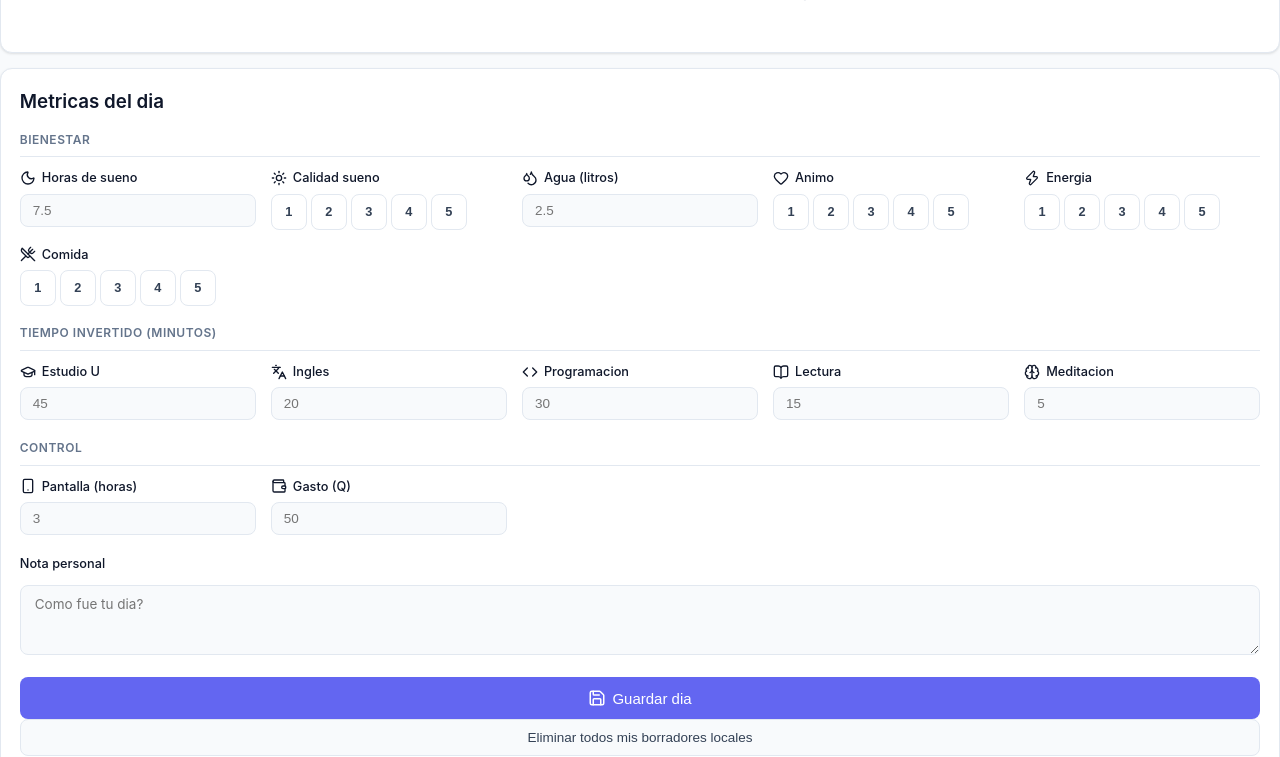
Scenario: Today draft save lifecycle › preserves edits made while the previous snapshot is saving
The width and height of the screenshot is (1280, 757).
(page scrolled)
Type "version uno" into the text box with placeholder "Como fue tu dia?" at (640, 620), box left=20, top=585, right=1260, bottom=655
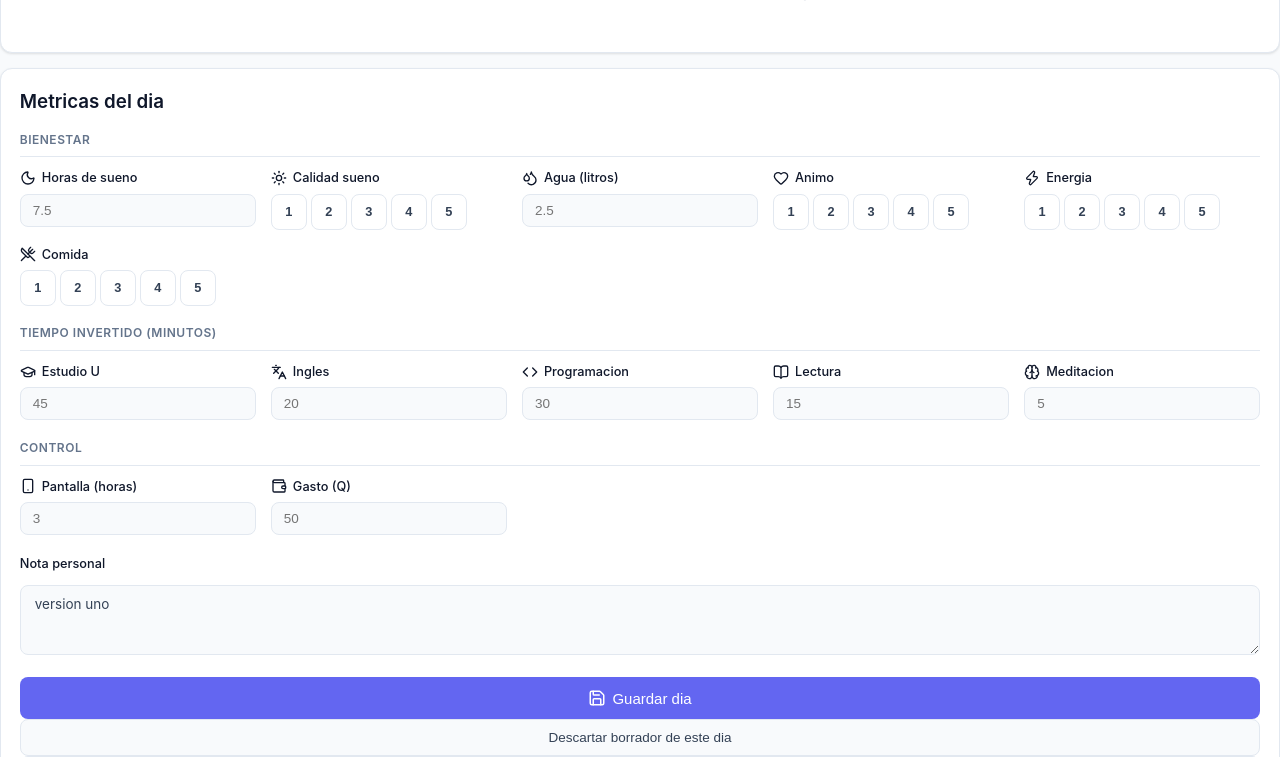
Click the button "Guardar dia" at (640, 698), box left=20, top=677, right=1260, bottom=719
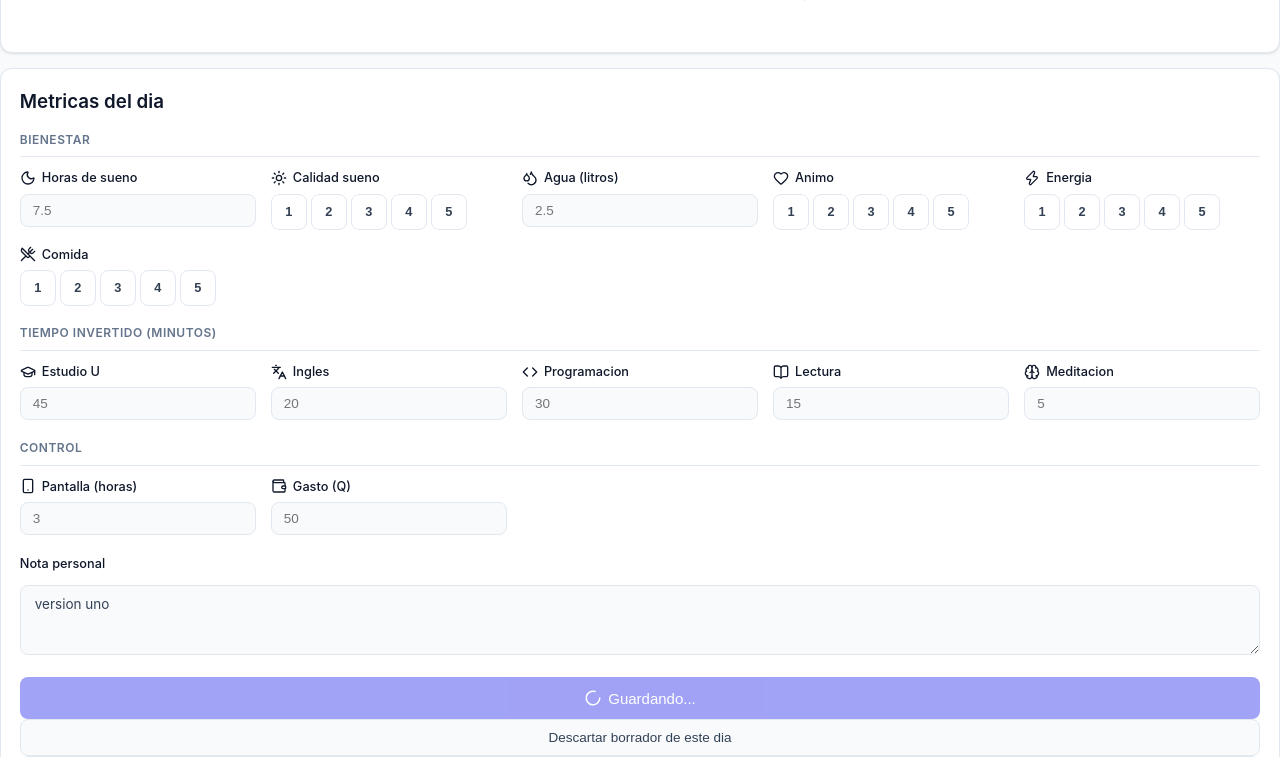
Replace the text in the text box with placeholder "Como fue tu dia?" with "version dos" at (640, 620), box left=20, top=585, right=1260, bottom=655
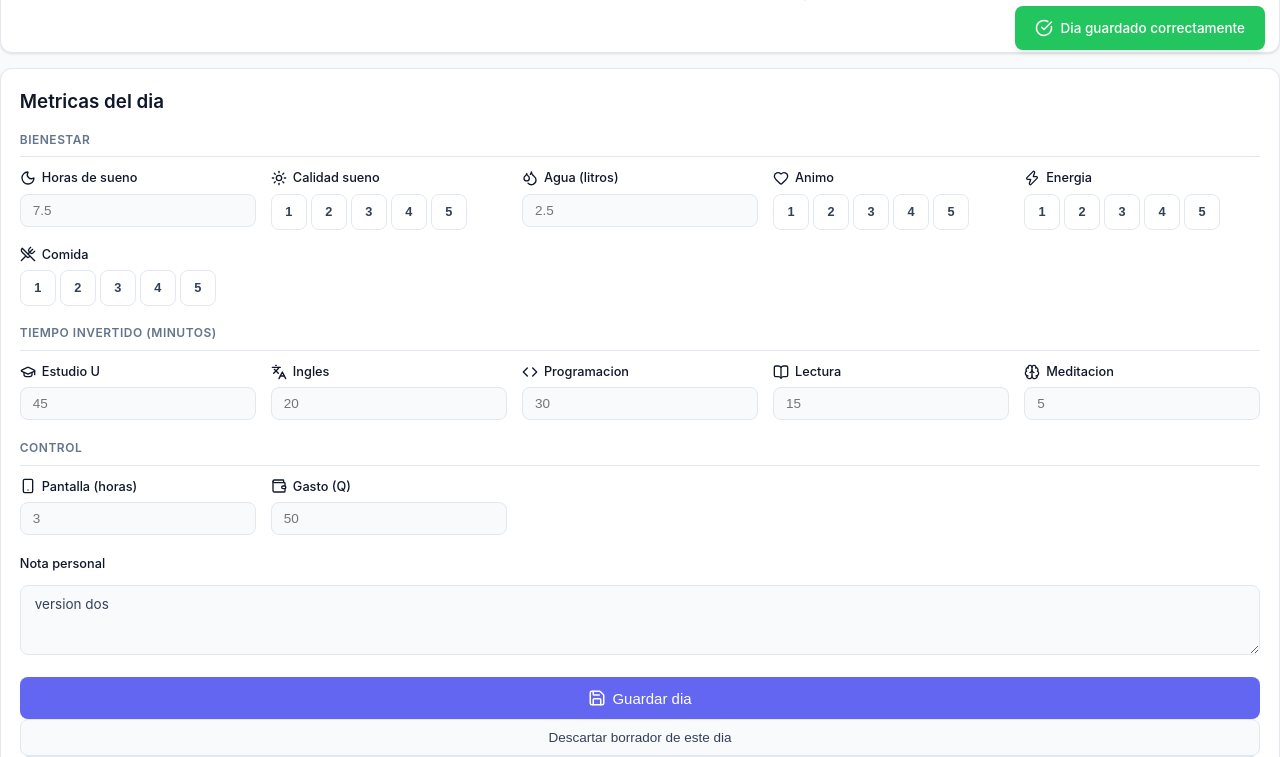
expect the text "Dia guardado correctamente" is shown: met, box left=1015, top=6, right=1265, bottom=50
